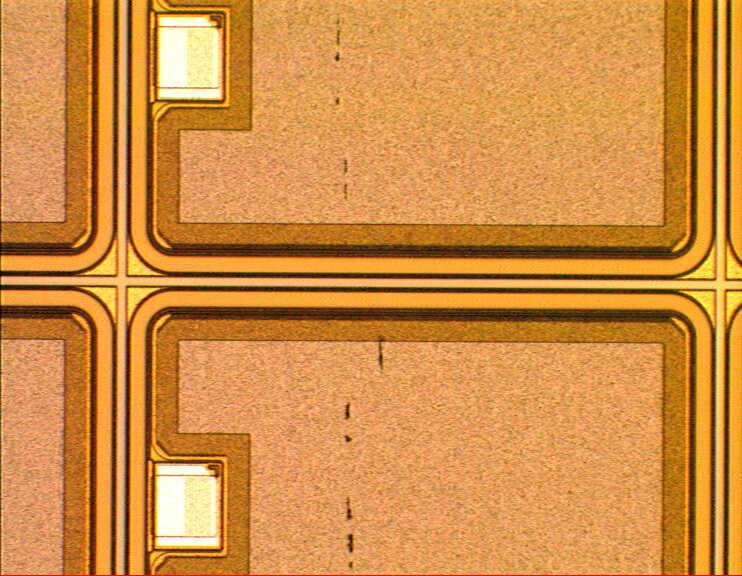SCRATCH: (326, 1, 396, 576)
